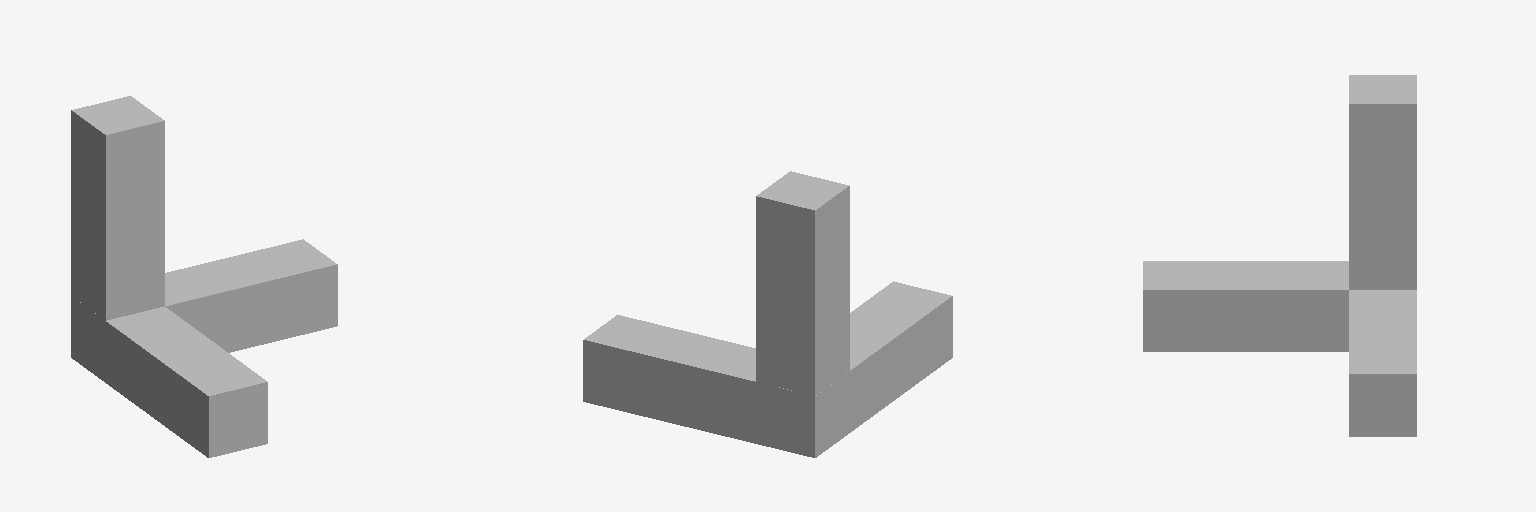
File: axis.obj
3 views of the same model, side by side, from view 1: azimuth 30°, elevation 25°; view 2: azimuth 150°, elevation 25°; view 3: azimuth 270°, elevation 25° (orthographic).
Parts seen in each view (by area): view 1: Cube; view 2: Cube; view 3: Cube.
Boxes of the visible parts, box(x1,y1,x2,y2) form: Cube: box(71, 96, 337, 457); Cube: box(583, 171, 952, 457); Cube: box(1143, 75, 1416, 436).
Bounding box in the file's own units: 2.35 × 2.39 × 2.4.